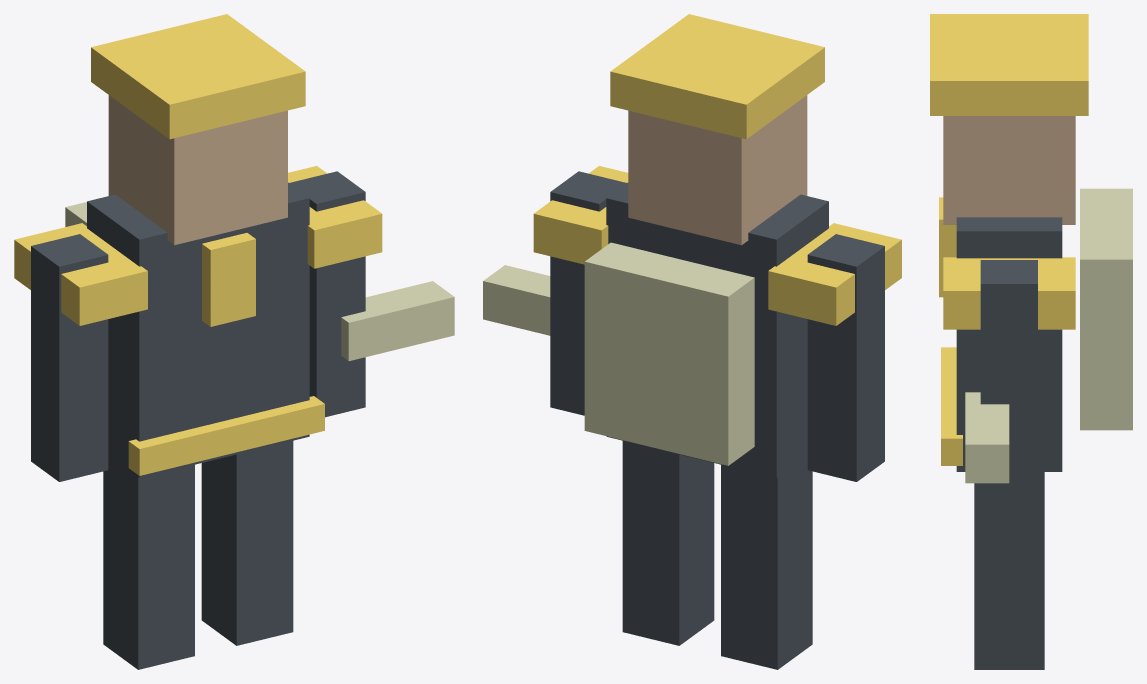
Rendered from 05_edda_gearmantle_cartographer_at_heat.glb.
3 renders of one model, left to right at view 1: azimuth 30°, elevation 25°; view 2: azimuth 150°, elevation 25°; view 3: azimuth 270°, elevation 25°, orthographic.
Visible parts, largest first — view 1: Edda Gearmantle, Cartographer at Heat; view 2: Edda Gearmantle, Cartographer at Heat; view 3: Edda Gearmantle, Cartographer at Heat.
Part boxes in pixels (x1,y1,x2,y2): Edda Gearmantle, Cartographer at Heat: (14,14,454,669); Edda Gearmantle, Cartographer at Heat: (483,14,901,669); Edda Gearmantle, Cartographer at Heat: (930,14,1132,669).
Size of the model in its own units: 1.06 by 1.51 by 0.4763.
